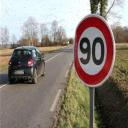speed_limit_90: (73, 13, 114, 86)
